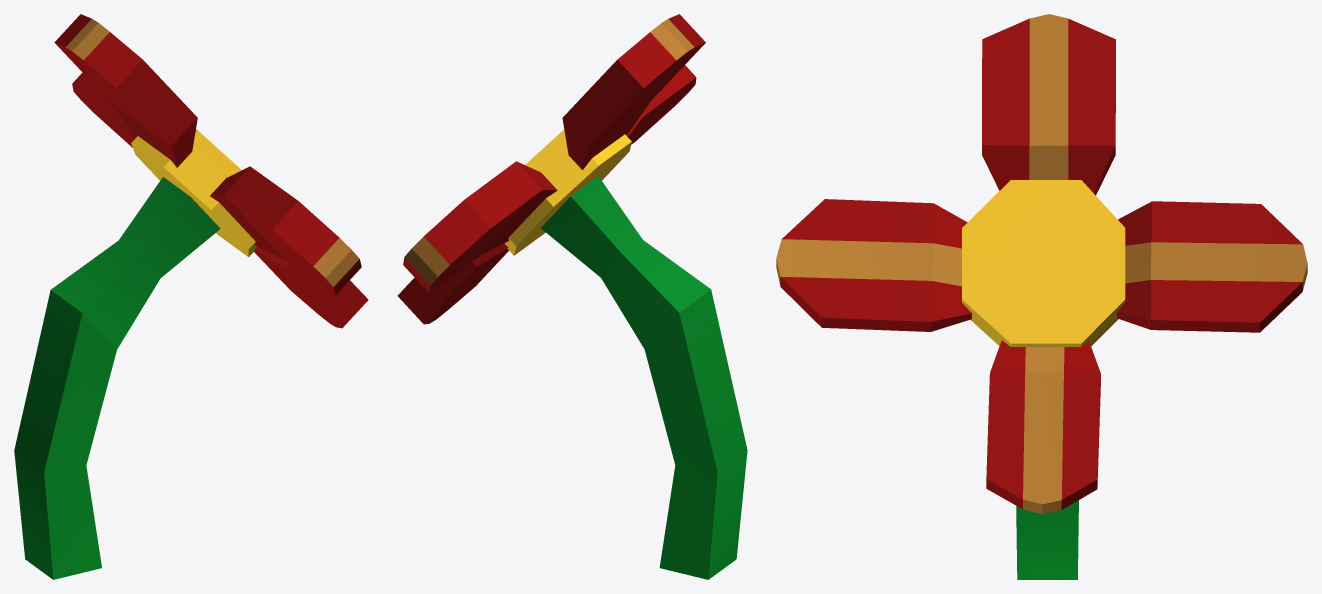
Rendered from FLORESRECOGER2 .fbx.
3 renders of one model, left to right at view 1: azimuth 30°, elevation 25°; view 2: azimuth 150°, elevation 25°; view 3: azimuth 270°, elevation 25°, orthographic. The views are drawn at different scales.
Visible parts, largest first — view 1: Cube.006; view 2: Cube.006; view 3: Cube.006.
Part boxes in pixels (<box>): Cube.006: <box>14,14,368,579</box>; Cube.006: <box>397,14,747,579</box>; Cube.006: <box>776,14,1307,579</box>.
Bounding box in the file's own units: 1330 × 2083 × 1754.
